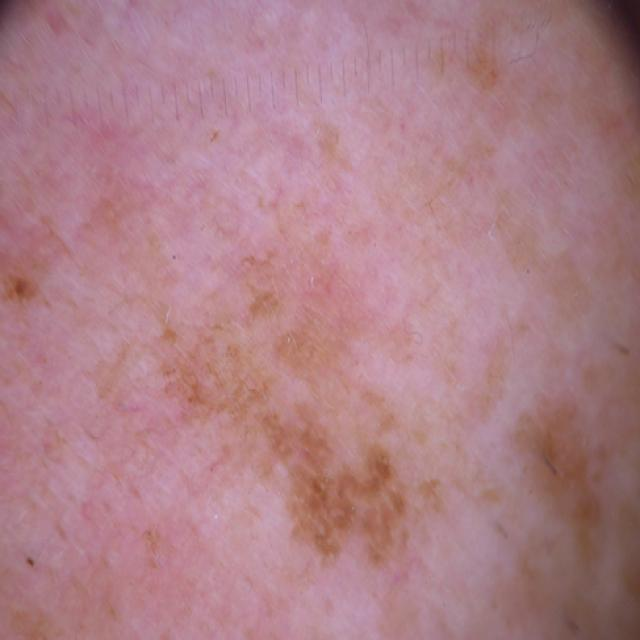Keratosis: (130, 247, 472, 634), (503, 391, 615, 566), (0, 532, 110, 640), (7, 279, 78, 398), (461, 24, 523, 142)
